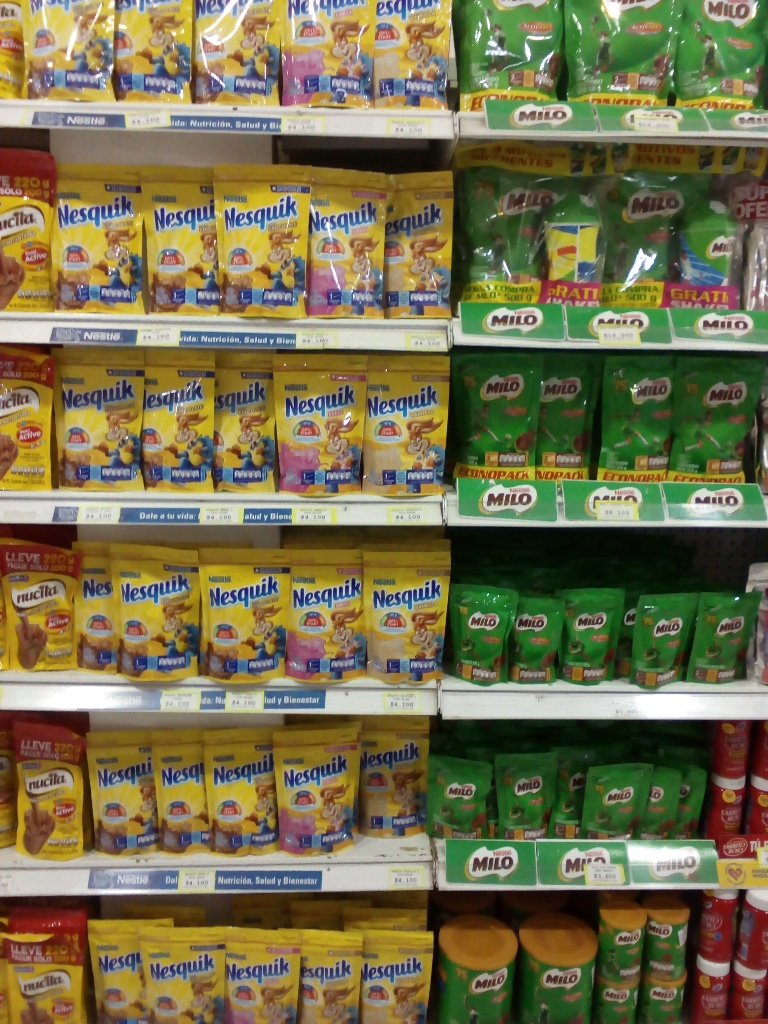COL0170203DYP10000: (693, 599, 753, 683)
COL0170203DYP50000: (677, 5, 762, 107)
COL0170203LAT20000: (643, 974, 685, 1020)
COL0170303DYP20000: (138, 922, 220, 1020)
COL0170306DYP20000: (374, 2, 453, 107)
